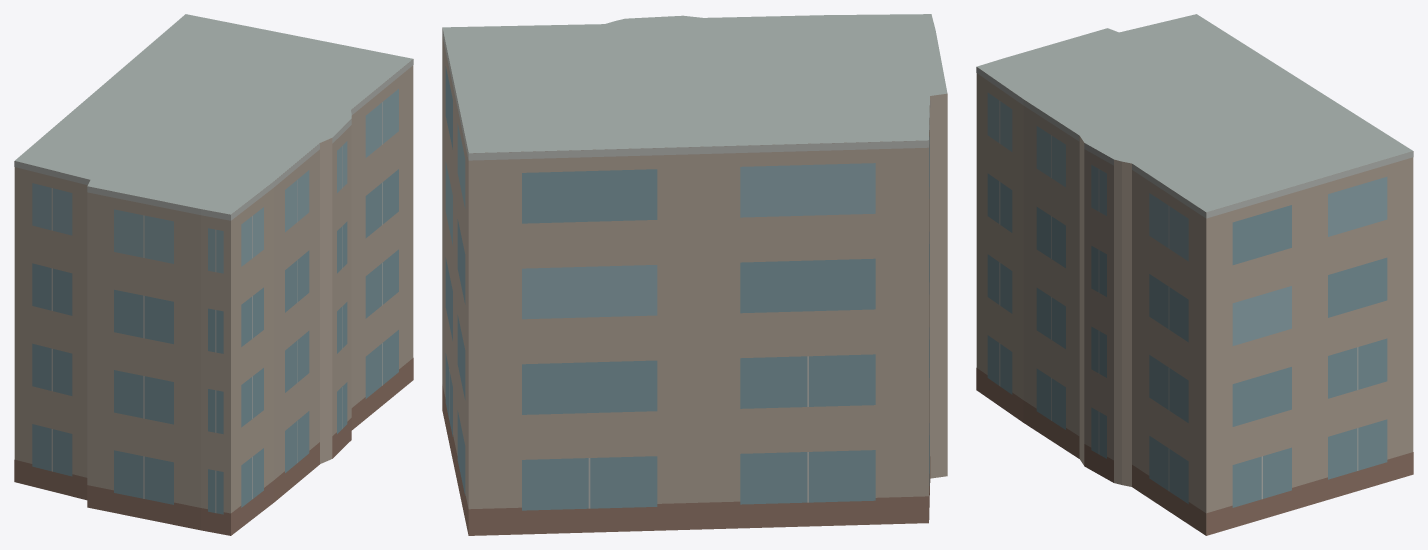
Rendered from survey-upis-32917188.glb.
3 renders of one model, left to right at view 1: azimuth 30°, elevation 25°; view 2: azimuth 150°, elevation 25°; view 3: azimuth 270°, elevation 25°, orthographic. The views are drawn at different scales.
Visible parts, largest first — view 1: survey-upis-32917188.tmp; view 2: survey-upis-32917188.tmp; view 3: survey-upis-32917188.tmp.
Part boxes in pixels (x1,y1,x2,y2): survey-upis-32917188.tmp: (14,14,413,535); survey-upis-32917188.tmp: (442,14,947,535); survey-upis-32917188.tmp: (976,14,1413,535).
Bounding box in the file's own units: 16.71 × 12.7 × 15.55.
